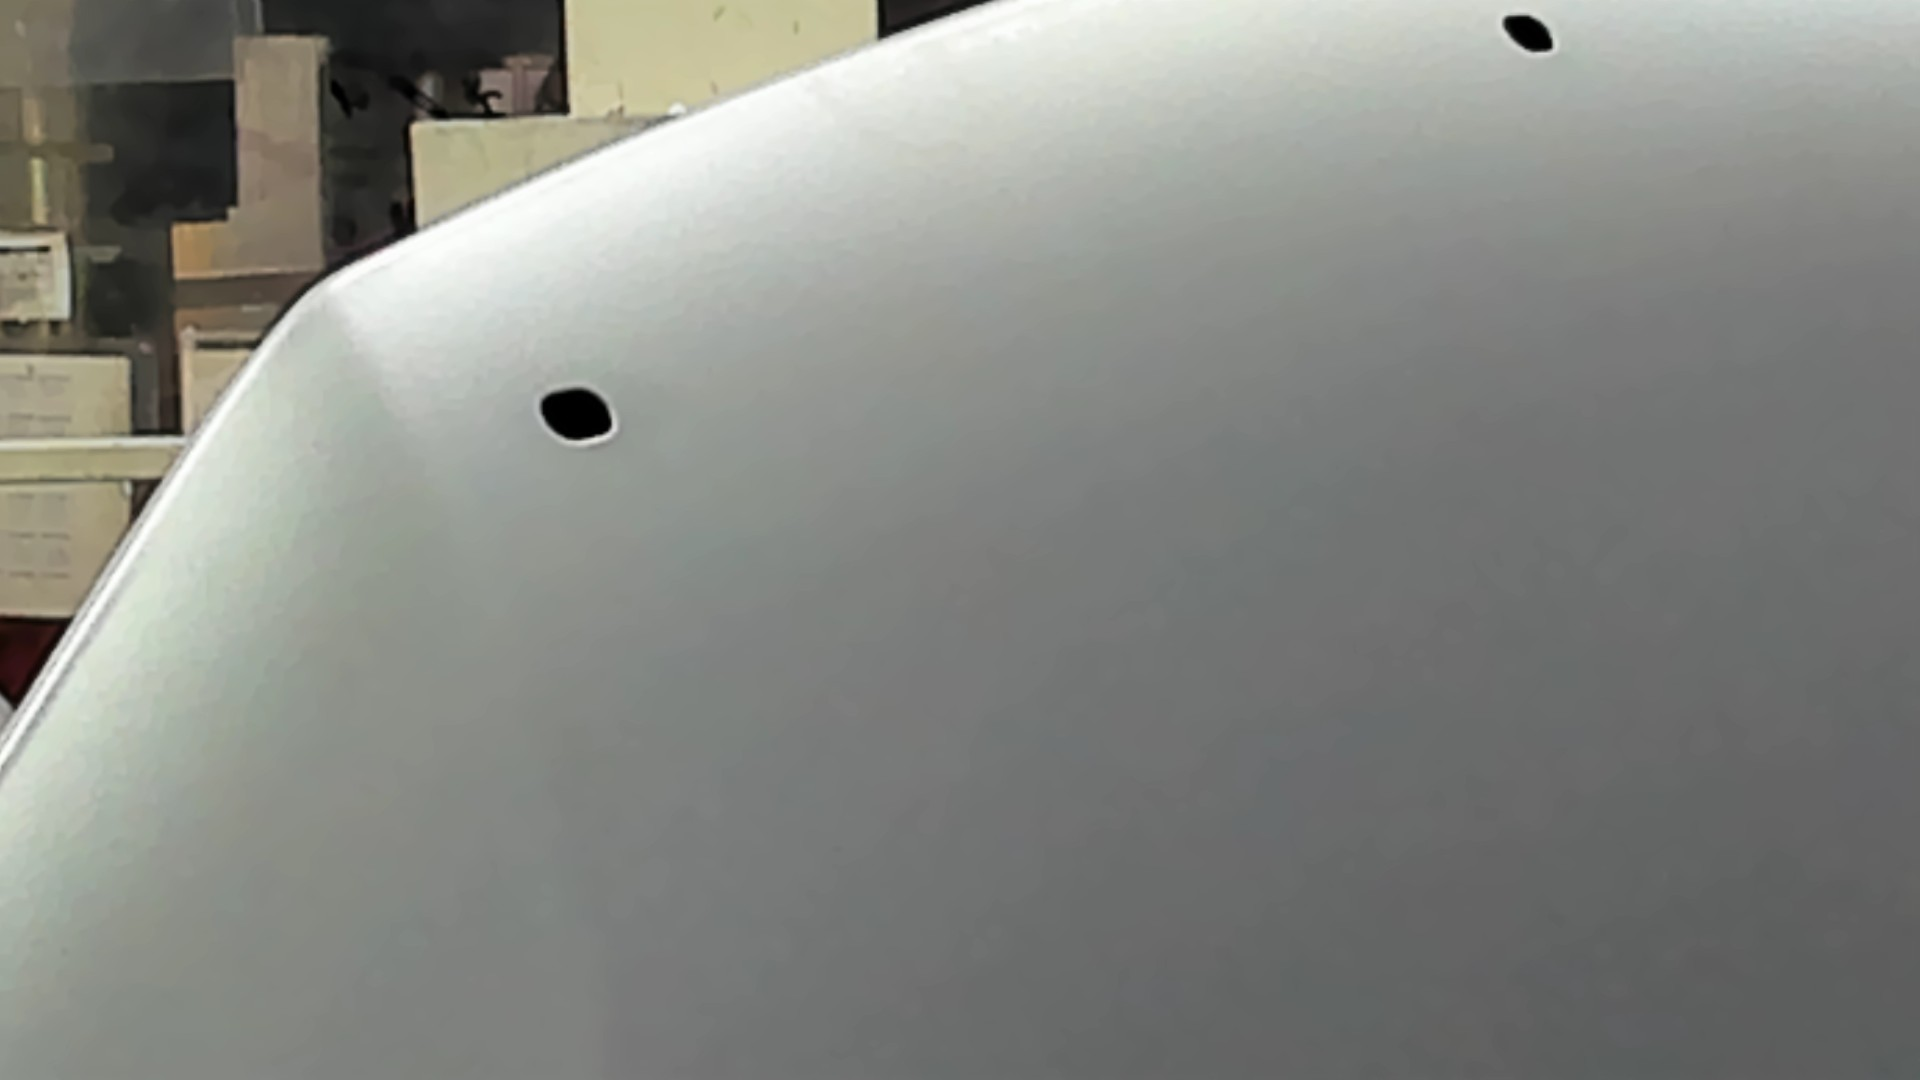amorfo: (529, 381, 618, 446), (1497, 7, 1564, 65)
